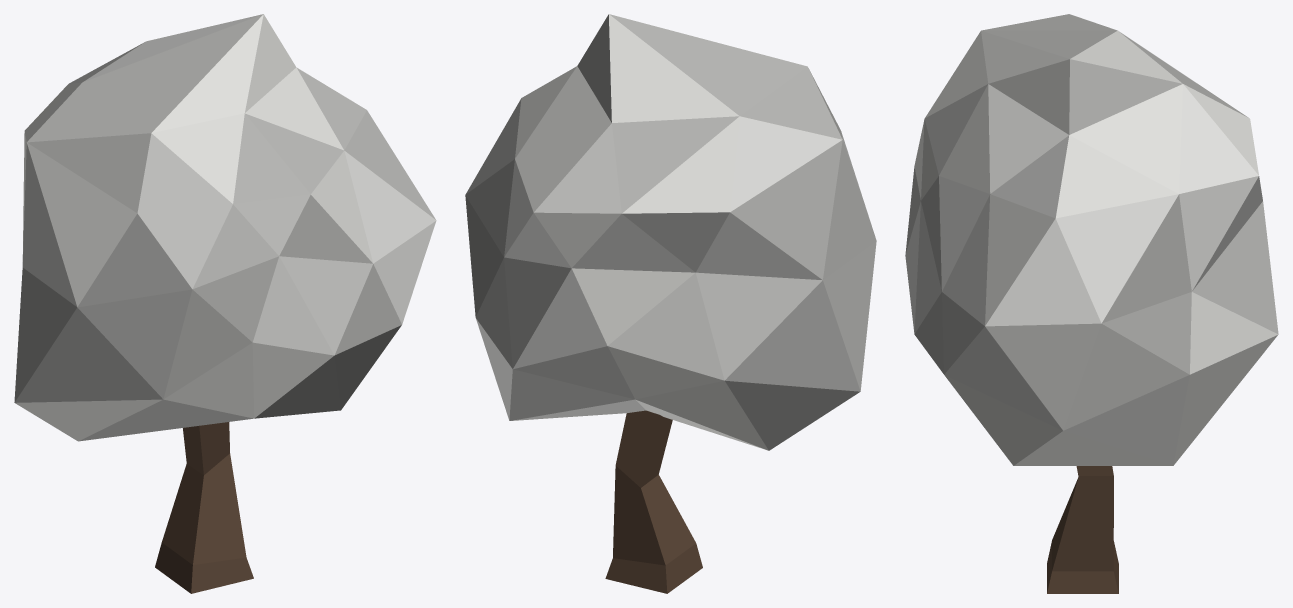
The model's file is Tree_3_White.fbx.
The picture shows the model from 3 angles, left to right: view 1: azimuth 30°, elevation 25°; view 2: azimuth 150°, elevation 25°; view 3: azimuth 270°, elevation 25°; orthographic projection.
Parts seen in each view (by area): view 1: Tree_3_White_Part_2, Tree_3_White_Part_3, Tree_3_White_Part_1; view 2: Tree_3_White_Part_2, Tree_3_White_Part_3, Tree_3_White_Part_1; view 3: Tree_3_White_Part_2, Tree_3_White_Part_3, Tree_3_White_Part_1.
Part boxes in pixels (x1=…): Tree_3_White_Part_2: x1=14, y1=14, x2=436, y2=441; Tree_3_White_Part_3: x1=14, y1=14, x2=435, y2=441; Tree_3_White_Part_1: x1=155, y1=422, x2=253, y2=593; Tree_3_White_Part_2: x1=465, y1=14, x2=876, y2=450; Tree_3_White_Part_3: x1=465, y1=14, x2=876, y2=420; Tree_3_White_Part_1: x1=605, y1=410, x2=702, y2=593; Tree_3_White_Part_2: x1=905, y1=30, x2=1278, y2=465; Tree_3_White_Part_3: x1=905, y1=14, x2=1278, y2=465; Tree_3_White_Part_1: x1=1047, y1=466, x2=1118, y2=593.
Size of the model in its own units: 433 by 596 by 370.
